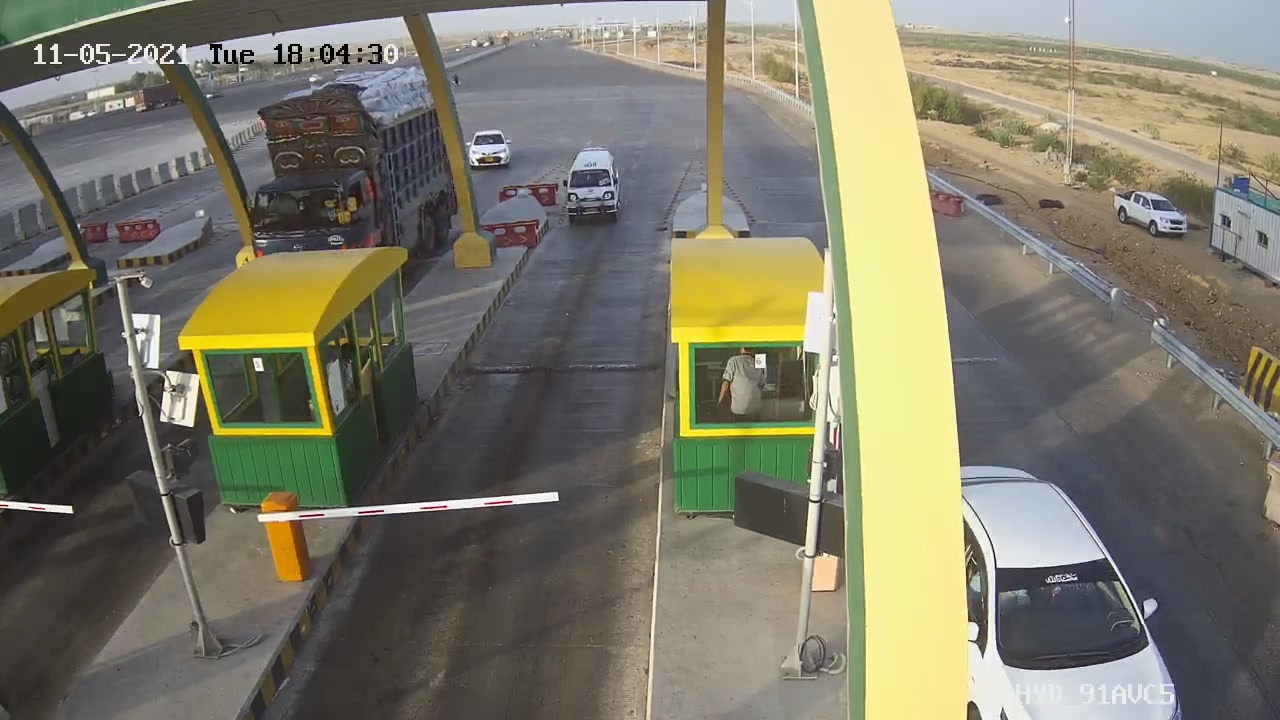F1: (550, 136, 637, 238)
